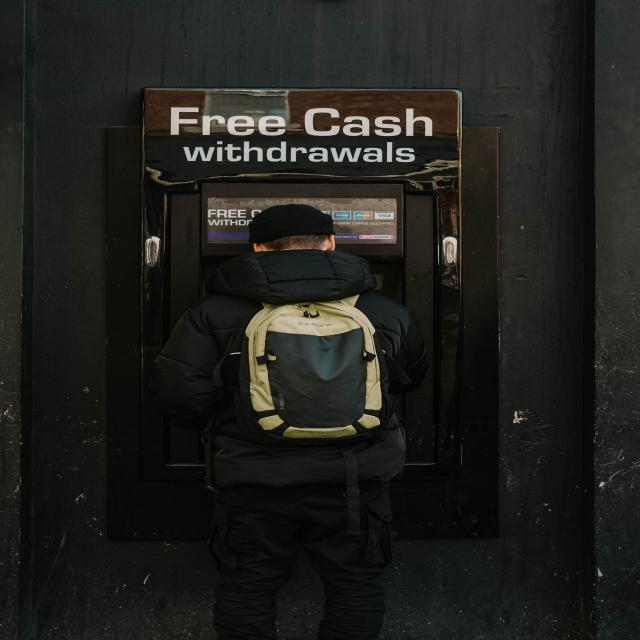backpack: (182, 288, 398, 443)
